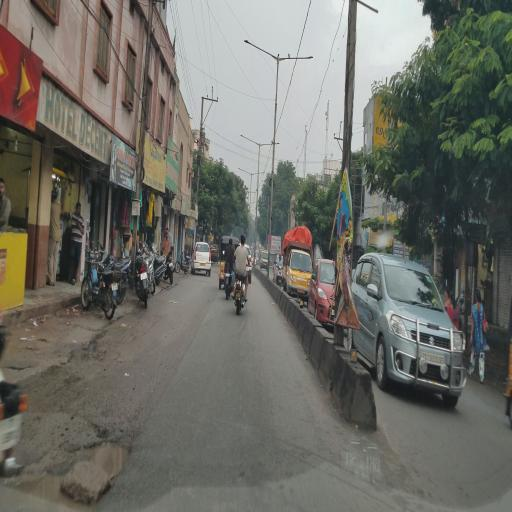street_light_0: (276, 38, 320, 66), (237, 34, 281, 62), (253, 129, 281, 149), (234, 128, 262, 148), (250, 161, 270, 183), (234, 163, 253, 181)
